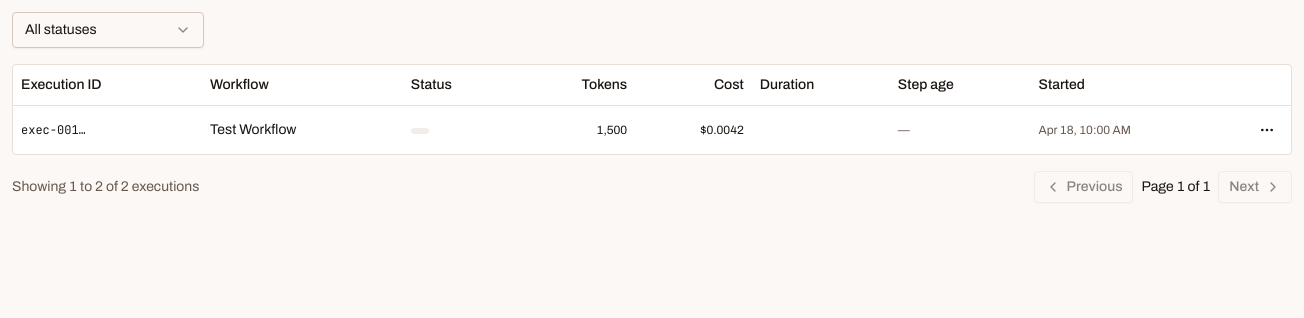
Test: ExecutionsTable › row-actions dropdown › opens with View trace, View lease, and Force fail items
The width and height of the screenshot is (1304, 318).
Note: click the row-actions trigger button (sr-only label "Row actions")
Click the button named "row actions".
click(1267, 130)  # box [1251,114,1283,146]
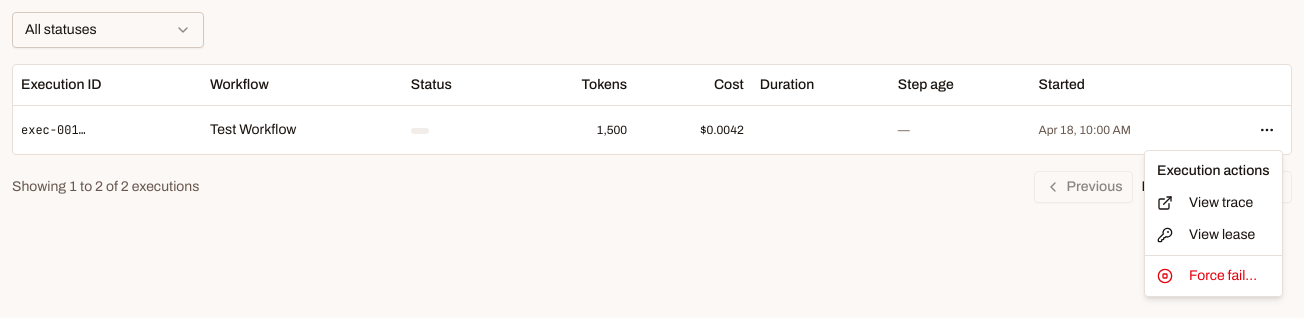
Result: the menu item "View trace" is shown at [1157,195,1253,211]
Result: the menu item "View lease" is shown at [1157,227,1255,243]
Result: the menu item "Force fail…" is shown at [1157,268,1257,284]
